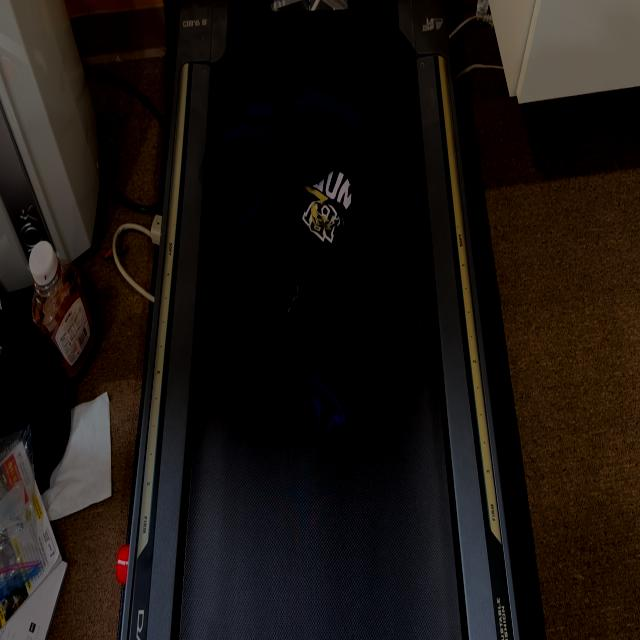Trash: (201, 87, 426, 443)
